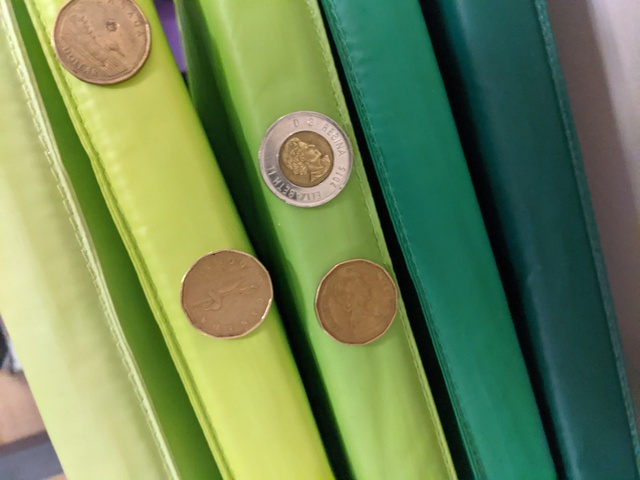loonie: (172, 247, 285, 346), (49, 0, 163, 90), (318, 262, 406, 350)
twonie: (251, 108, 352, 211)
